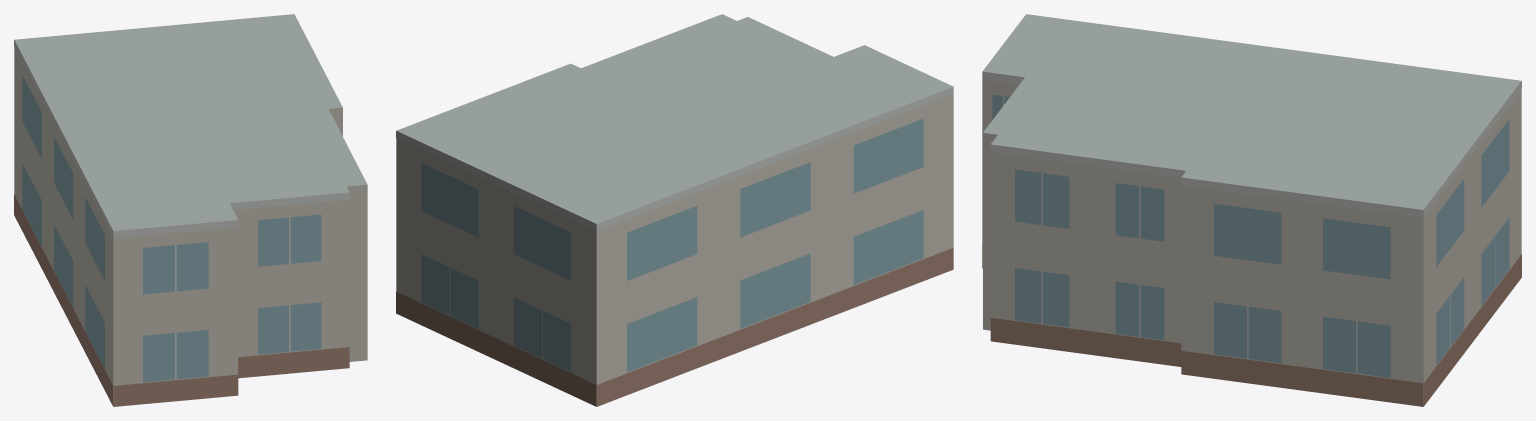
The model's file is survey-upis-32821383.glb.
The picture shows the model from 3 angles, left to right: view 1: azimuth 30°, elevation 25°; view 2: azimuth 150°, elevation 25°; view 3: azimuth 270°, elevation 25°; orthographic projection. The views are drawn at different scales.
Parts seen in each view (by area): view 1: survey-upis-32821383.tmp; view 2: survey-upis-32821383.tmp; view 3: survey-upis-32821383.tmp.
Boxes of the visible parts, <box> form: survey-upis-32821383.tmp: <box>14,14,367,406</box>; survey-upis-32821383.tmp: <box>396,14,953,406</box>; survey-upis-32821383.tmp: <box>982,14,1521,406</box>.
Size of the model in its own units: 13.03 by 6.1 by 15.16.
